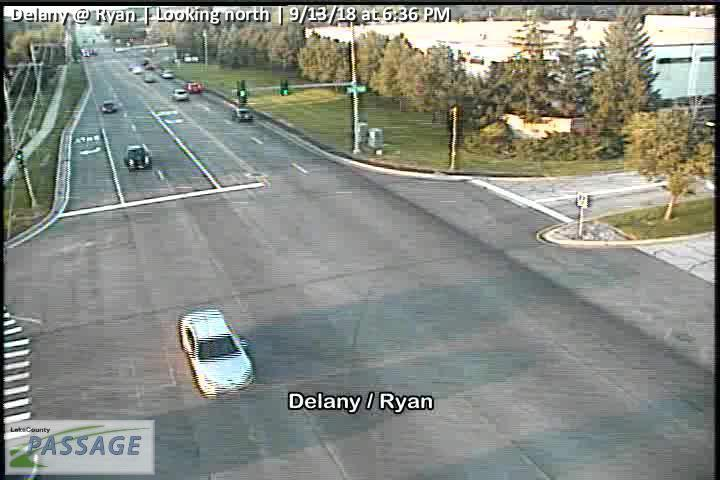SUV: (125, 143, 153, 170)
Sedan: (177, 305, 256, 399), (232, 108, 253, 122), (102, 100, 117, 114), (183, 83, 203, 93), (172, 88, 188, 100), (161, 69, 174, 79)
